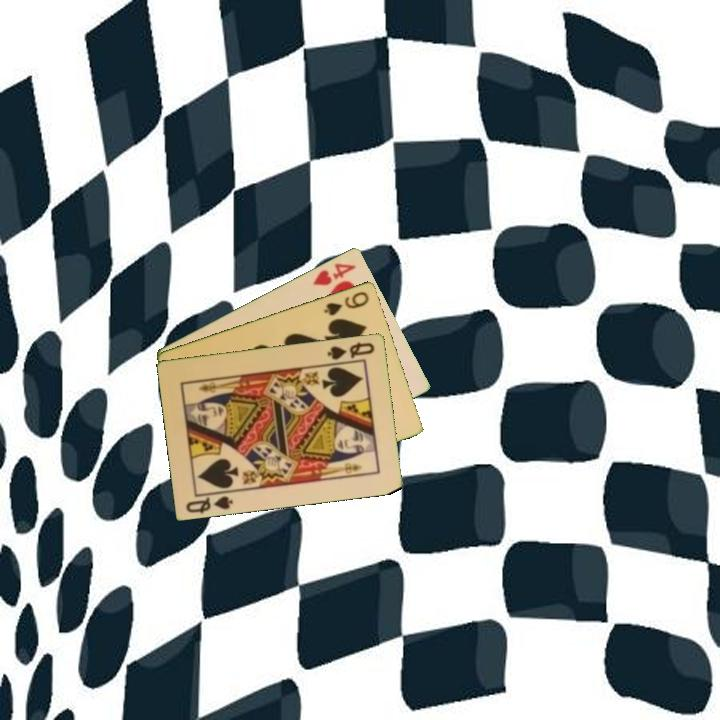4h: (309, 259, 359, 288)
9s: (320, 287, 372, 318)
Qs: (324, 338, 378, 362), (183, 492, 236, 516)
